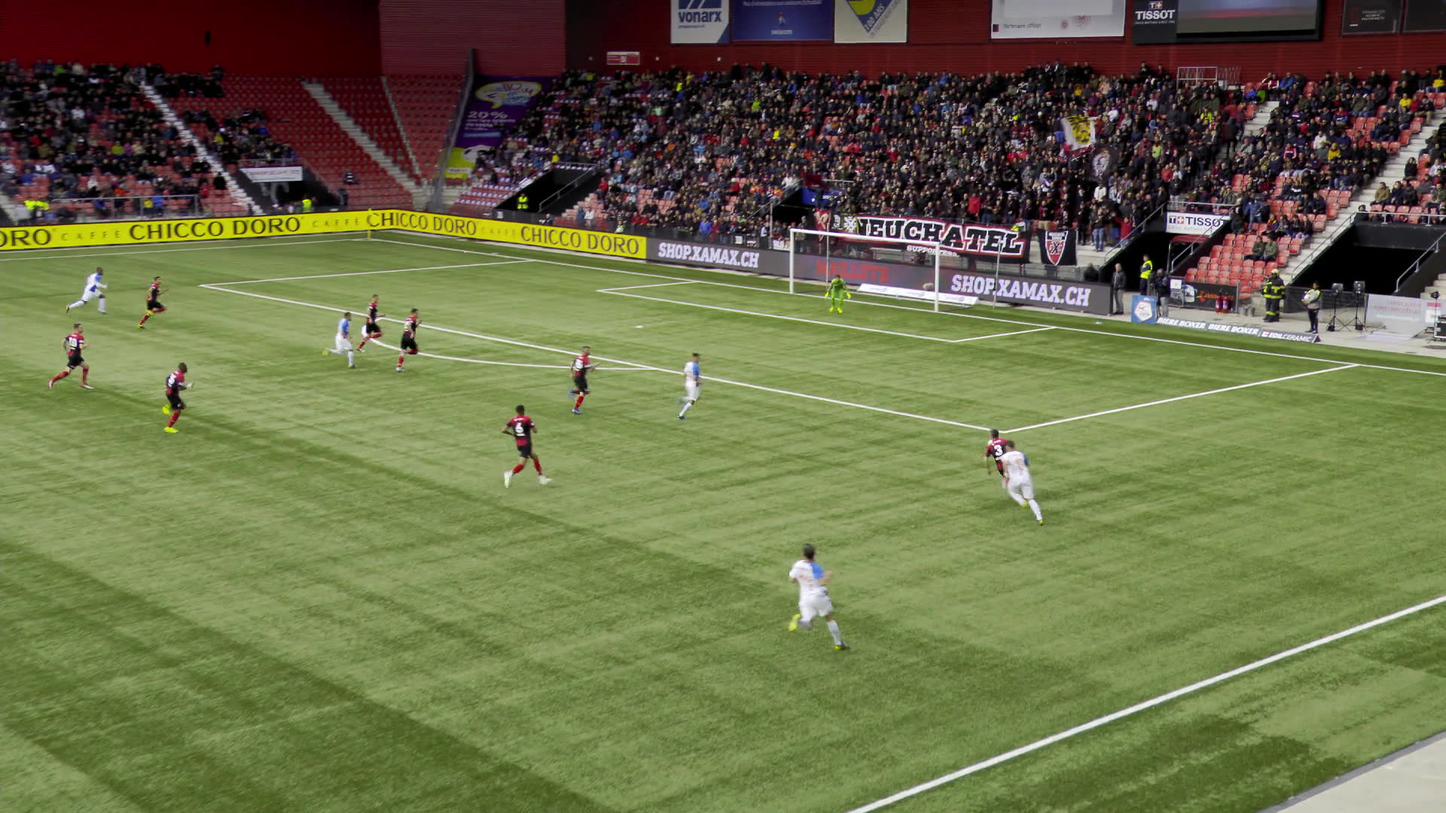ball: (999, 442, 1008, 451)
player: (782, 540, 842, 651), (499, 403, 537, 495), (145, 358, 192, 429), (1005, 438, 1043, 522), (980, 425, 1020, 501), (552, 344, 594, 411), (661, 350, 701, 415), (54, 322, 90, 394), (318, 309, 355, 367), (385, 306, 418, 368), (73, 265, 107, 316), (351, 292, 378, 352), (133, 273, 161, 326), (825, 274, 851, 313)
